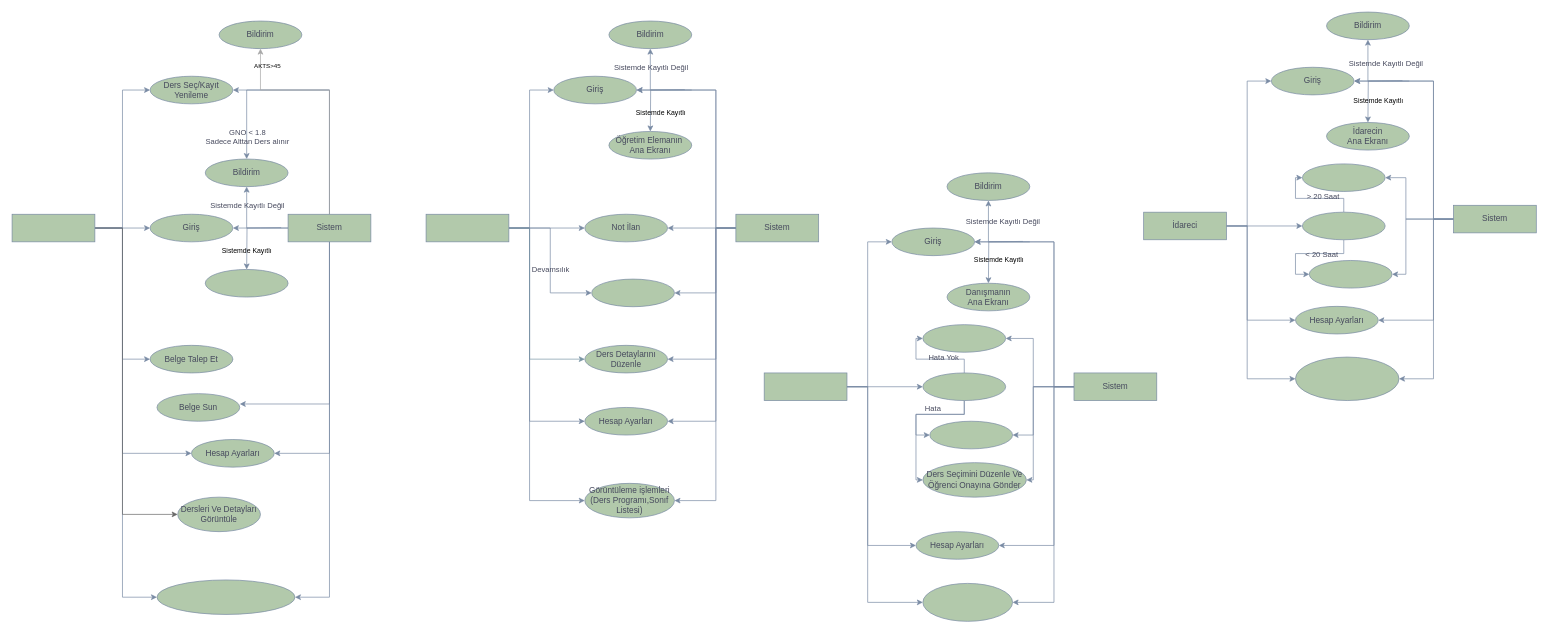
The diagram is 1548 pixels wide and 633 high, and some of its shapes have lost their labels. Each missing label, with the centre of its shape:
Danışman: (x=805, y=386)
Ders Eşleştir: (x=1343, y=225)
Ders Seçimini İncele: (x=964, y=386)
Ders Şecimini Düzenle Ve Onayla: (x=971, y=435)
Ders Şecimini Onayla: (x=964, y=338)
Devamsılık Bildirimi: (x=632, y=292)
Görüntüleme işlemleri (Ders Programı, Danışman Bilgileri): (x=225, y=596)
Görüntüleme işlemleri (Dersler,Öğretim Elemanları Listesi): (x=1347, y=378)
Görüntüleme işlemleri (Öğrenci Bilgileri,Ders Kayıtlanması): (x=967, y=602)
Kabul ve Haber Et: (x=1350, y=274)
Reddet ve Haber Et: (x=1343, y=177)
Öğrenci: (x=53, y=228)
Öğrenci Ana Ekranı: (x=246, y=283)
Öğretim Elemanı: (x=467, y=228)
